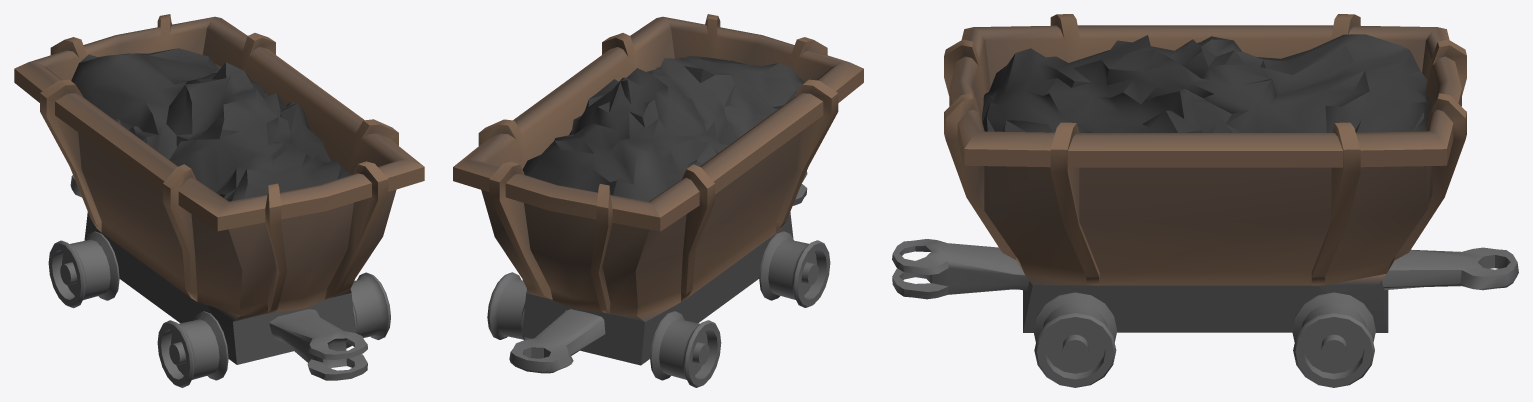
The picture shows the model from 3 angles, left to right: view 1: azimuth 30°, elevation 25°; view 2: azimuth 150°, elevation 25°; view 3: azimuth 270°, elevation 25°; orthographic projection. The views are drawn at different scales.
Parts seen in each view (by area): view 1: Object_3; view 2: Object_3; view 3: Object_3.
Part boxes in pixels (box(x1,y1,x2,y2)): Object_3: box(14, 14, 424, 387); Object_3: box(453, 14, 863, 387); Object_3: box(892, 14, 1518, 387).
Size of the model in its own units: 0.9509 by 0.9885 by 1.9.
